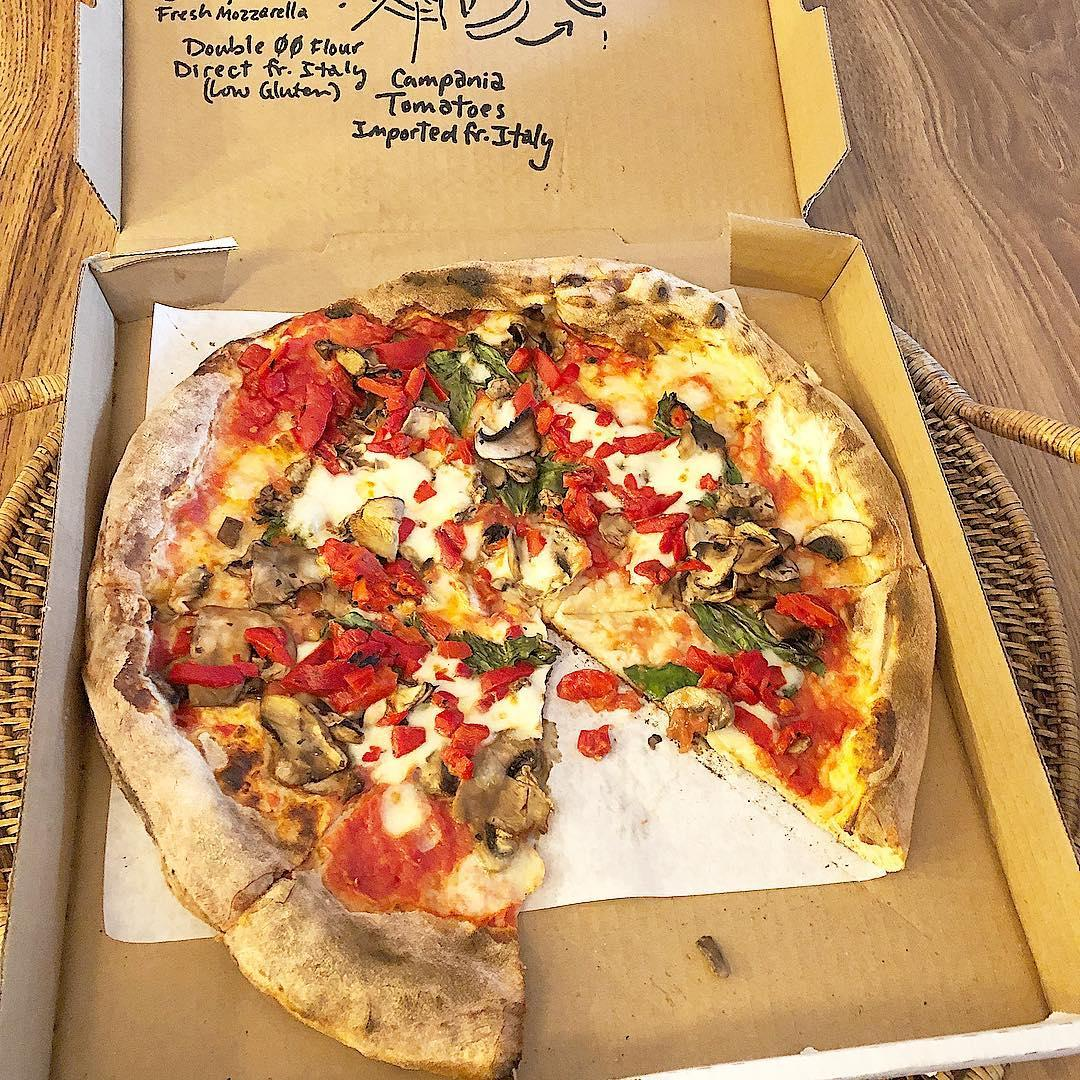Mushroom: (447, 725, 554, 857), (684, 481, 798, 596), (188, 604, 294, 707), (255, 699, 349, 783), (470, 412, 537, 483), (799, 514, 876, 562), (348, 491, 402, 559)
Pizza: (79, 261, 937, 1080)
Tomatoes: (537, 351, 601, 523), (247, 343, 354, 439), (294, 632, 425, 699)
